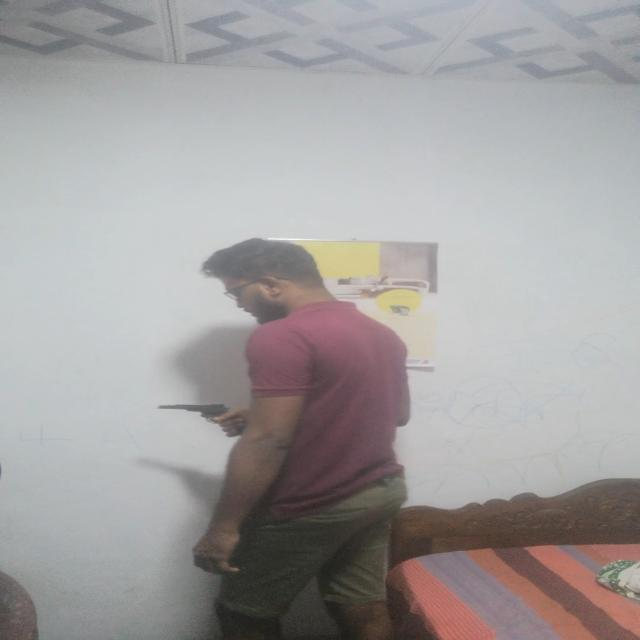Gun_Holder: (145, 401, 252, 438)
Person: (175, 236, 421, 635)
